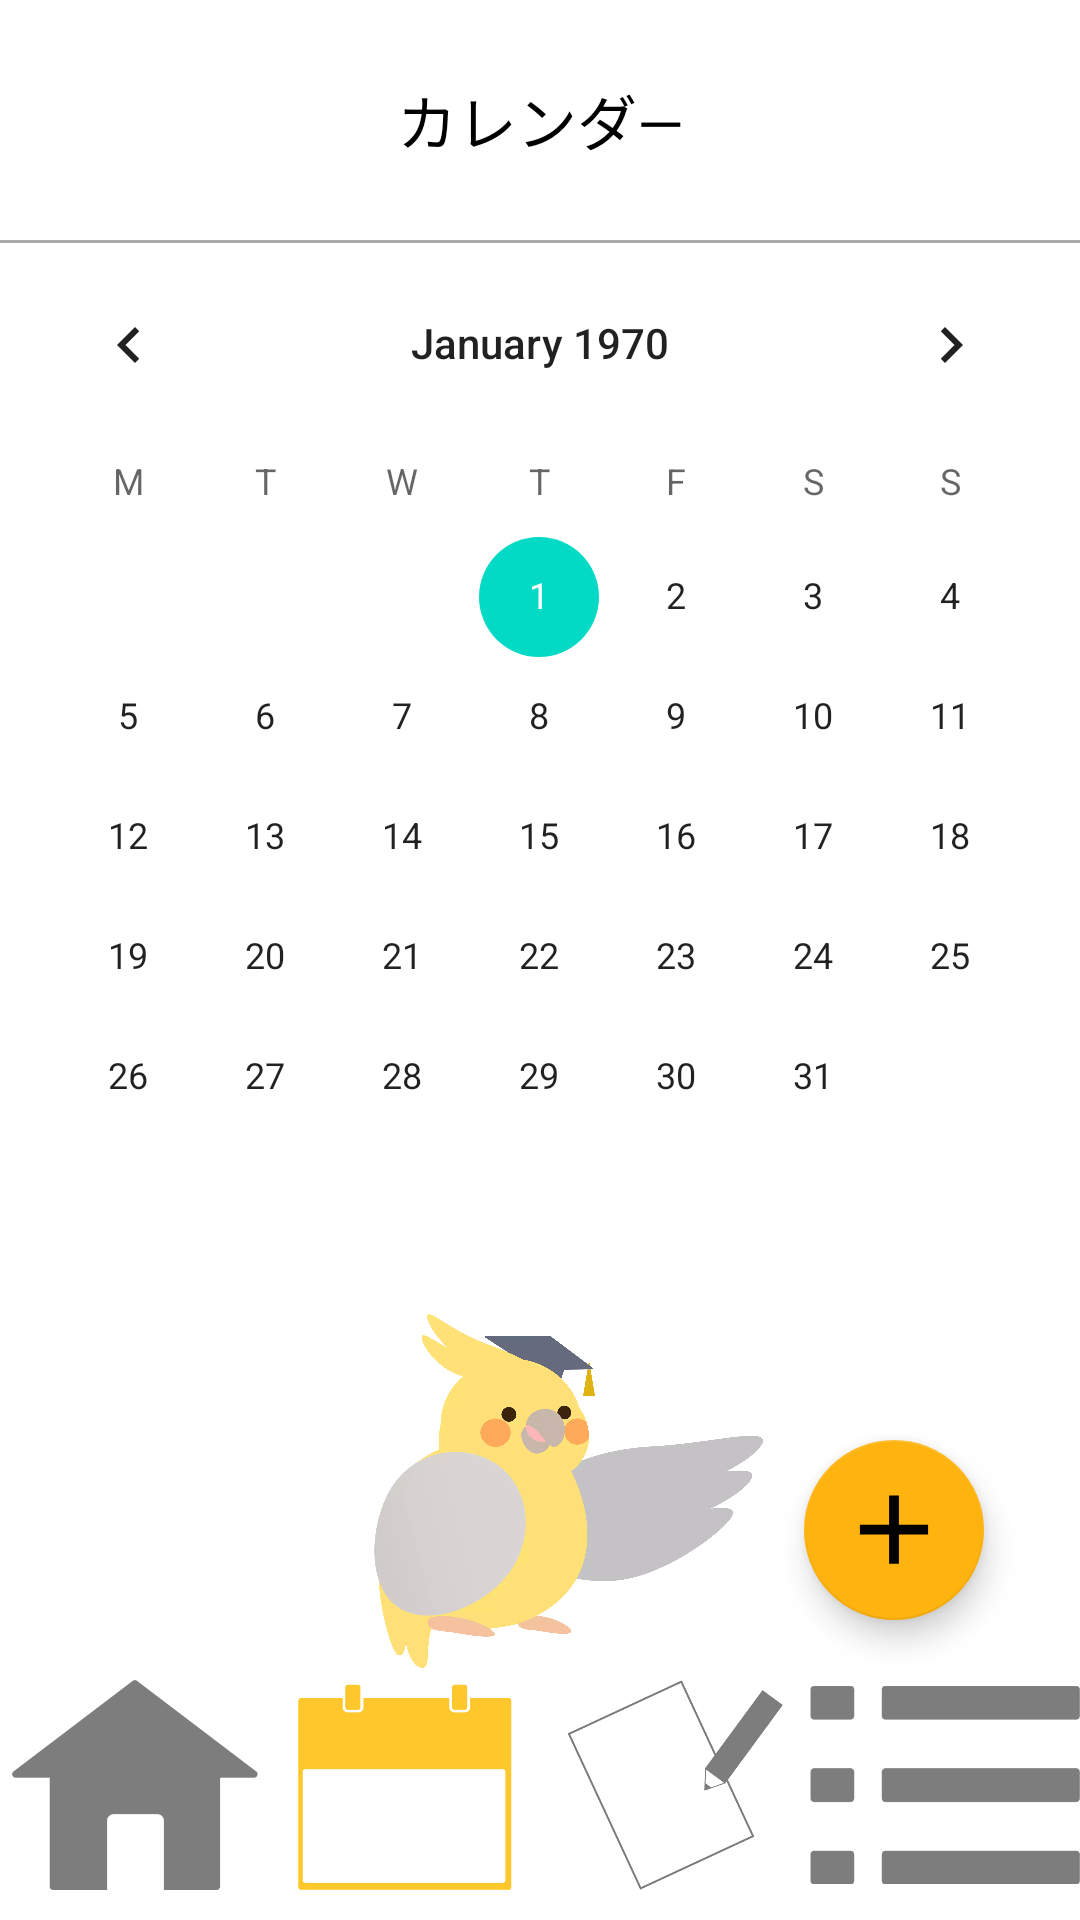

Where icons sit on this 1080 × 1920 app screen, as (x1, y1, x2, y2):
calendar on: (298, 1684, 512, 1890)
home off: (12, 1680, 258, 1890)
kadai off: (568, 1680, 783, 1890)
plus: (804, 1440, 984, 1620)
